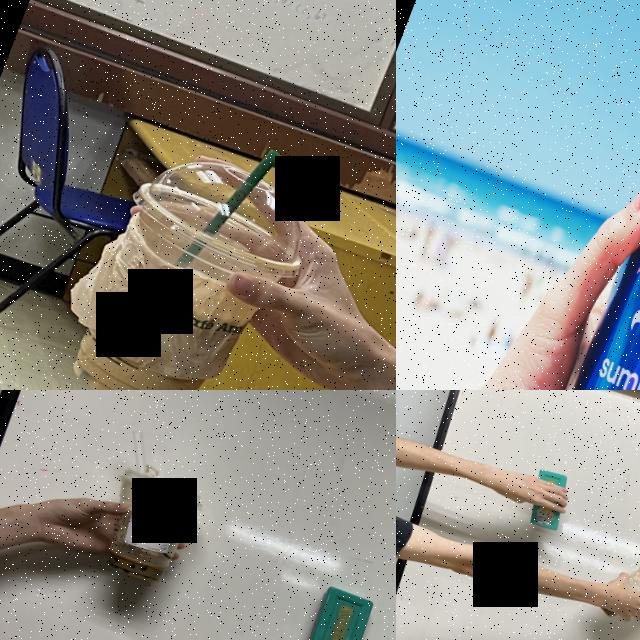can: (531, 87, 640, 390)
cup: (58, 134, 326, 390), (84, 464, 208, 594), (590, 555, 640, 637)
